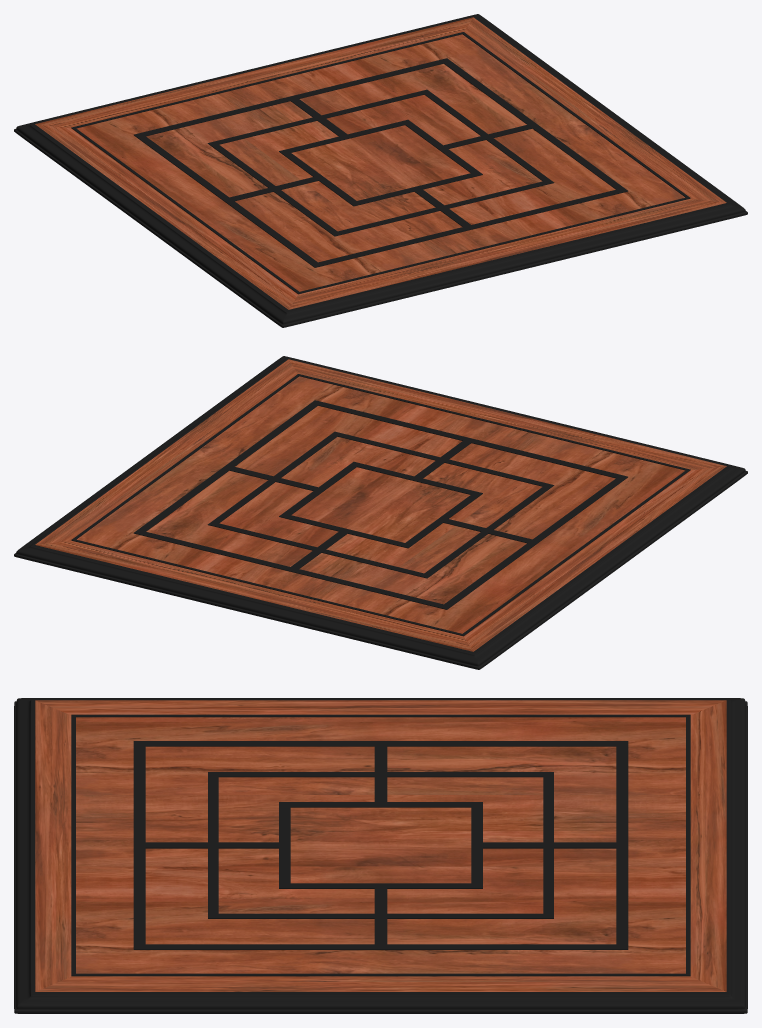
Rendered from Field.dae.
3 renders of one model, top to bottom at view 1: azimuth 30°, elevation 25°; view 2: azimuth 150°, elevation 25°; view 3: azimuth 270°, elevation 25°, orthographic. The views are drawn at different scales.
Parts seen in each view (by area): view 1: Wood, Wood_001, Stripes, Base; view 2: Wood, Wood_001, Stripes, Base; view 3: Wood, Wood_001, Stripes, Base.
Part boxes in pixels (x1,y1,x2,y2): Wood: (76,34,684,291); Wood_001: (35,17,726,309); Stripes: (71,32,690,294); Base: (14,14,747,327); Wood: (77,376,685,633); Wood_001: (35,359,726,651); Stripes: (71,374,690,636); Base: (14,356,747,669); Wood: (76,717,685,973); Wood_001: (35,700,726,991); Stripes: (71,714,690,976); Base: (14,698,747,1013).
Bounding box in the file's own units: 8.23 × 8.23 × 0.1767.
Materials: 2 (1 with a texture image).
